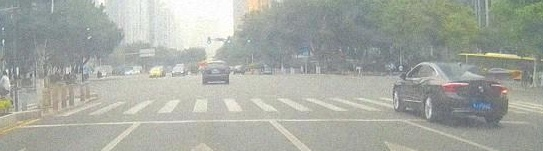L_light: (441, 83, 469, 93), (202, 68, 207, 74)
R_light: (491, 84, 508, 94), (225, 67, 229, 74)
T_light: (455, 65, 467, 68), (211, 61, 218, 63)
day-no: (201, 61, 230, 84)
day-right: (433, 63, 508, 123)
